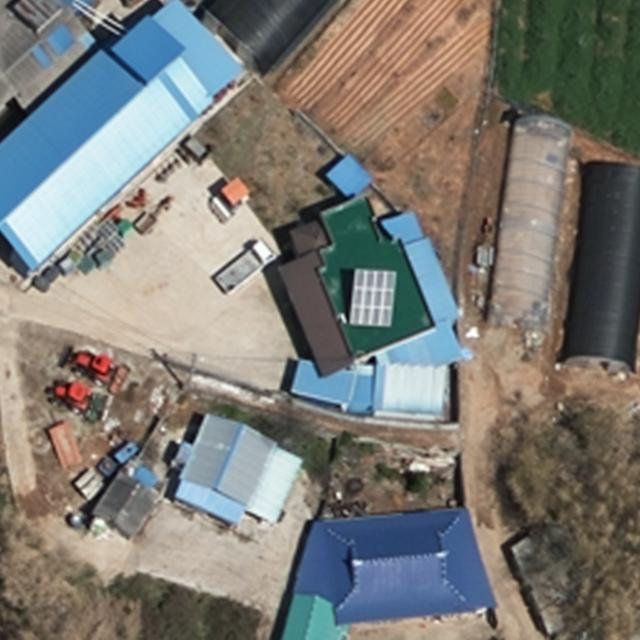panel: (347, 267, 397, 326)
